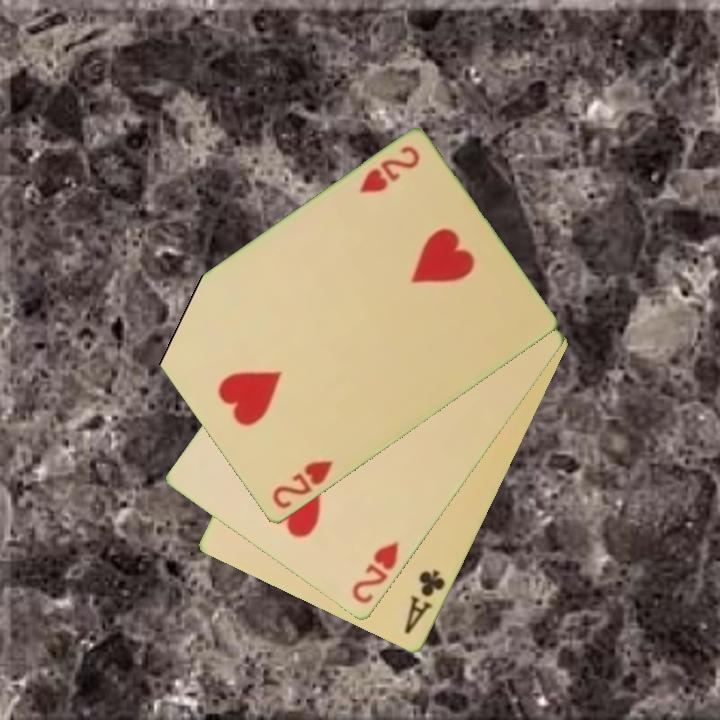2h: (268, 457, 336, 513), (348, 538, 402, 608), (355, 143, 423, 197)
Ac: (401, 567, 449, 638)
